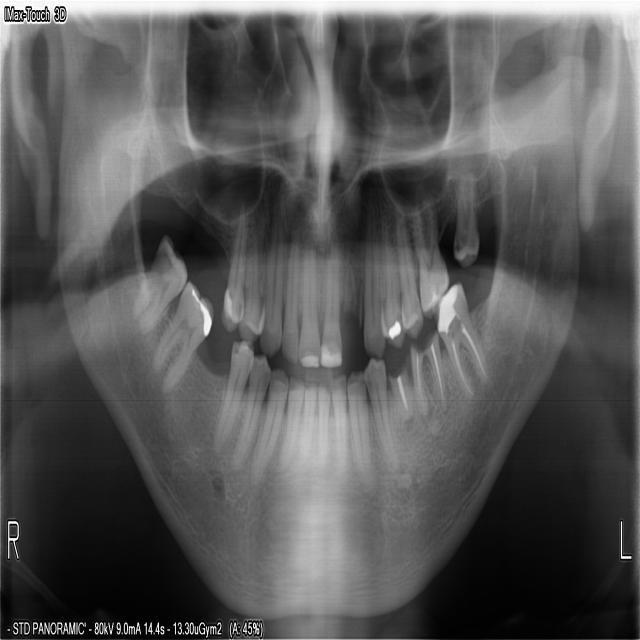LCD: (346, 366, 377, 489)
LCU: (361, 181, 385, 357)
LID: (330, 369, 347, 488), (316, 378, 330, 473)
LIU: (320, 228, 342, 371)
LMD: (434, 278, 488, 401)
LMU: (409, 192, 449, 318), (450, 168, 479, 268)
LPMD: (364, 360, 402, 475)
LPMU: (395, 200, 424, 341), (381, 200, 404, 351)
RCD: (248, 365, 287, 480)
RCU: (259, 191, 283, 360)
RID: (272, 372, 302, 475), (294, 378, 315, 470)
RIU: (296, 224, 321, 369), (278, 214, 300, 364)
RMD: (148, 275, 214, 397), (128, 232, 187, 339)
RPMD: (225, 352, 268, 473), (211, 337, 254, 456)
RPMU: (236, 196, 268, 345), (217, 199, 244, 333)
